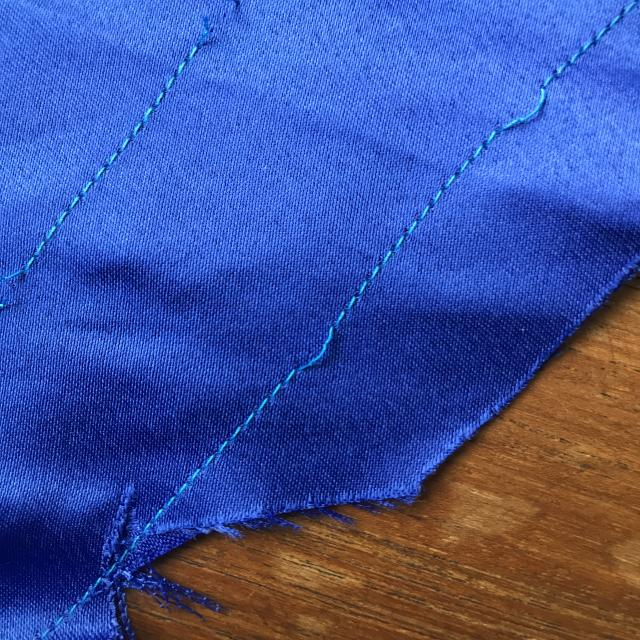good: (76, 99, 188, 180)
skip: (472, 53, 570, 171), (278, 306, 356, 400)
